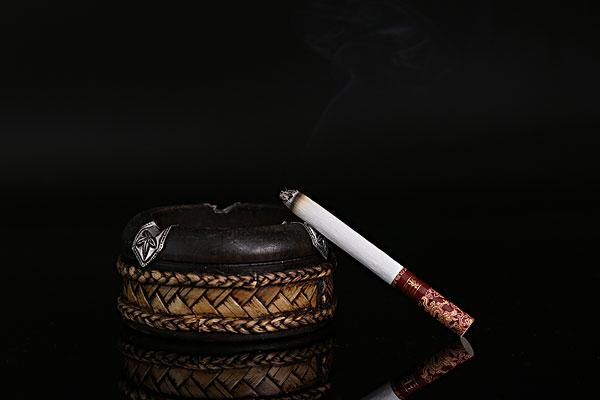smoke: (274, 181, 477, 337)
